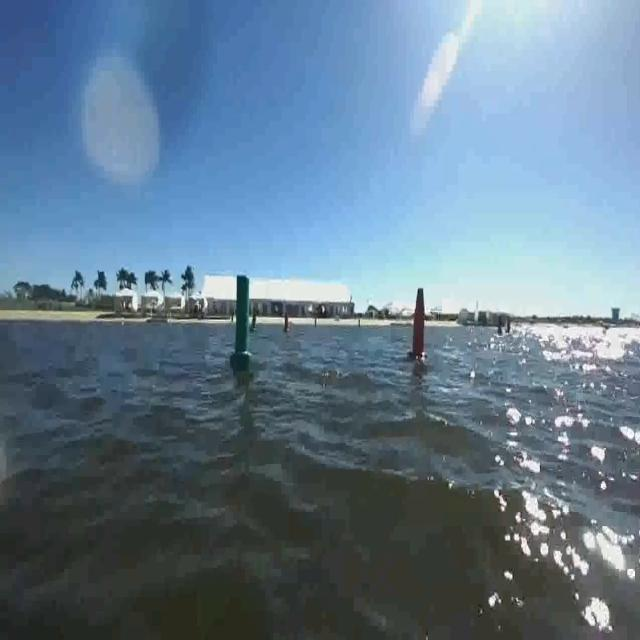green-column-buoy: (231, 274, 254, 366), (250, 306, 258, 330)
red-column-buoy: (409, 285, 429, 362), (283, 312, 291, 332)
